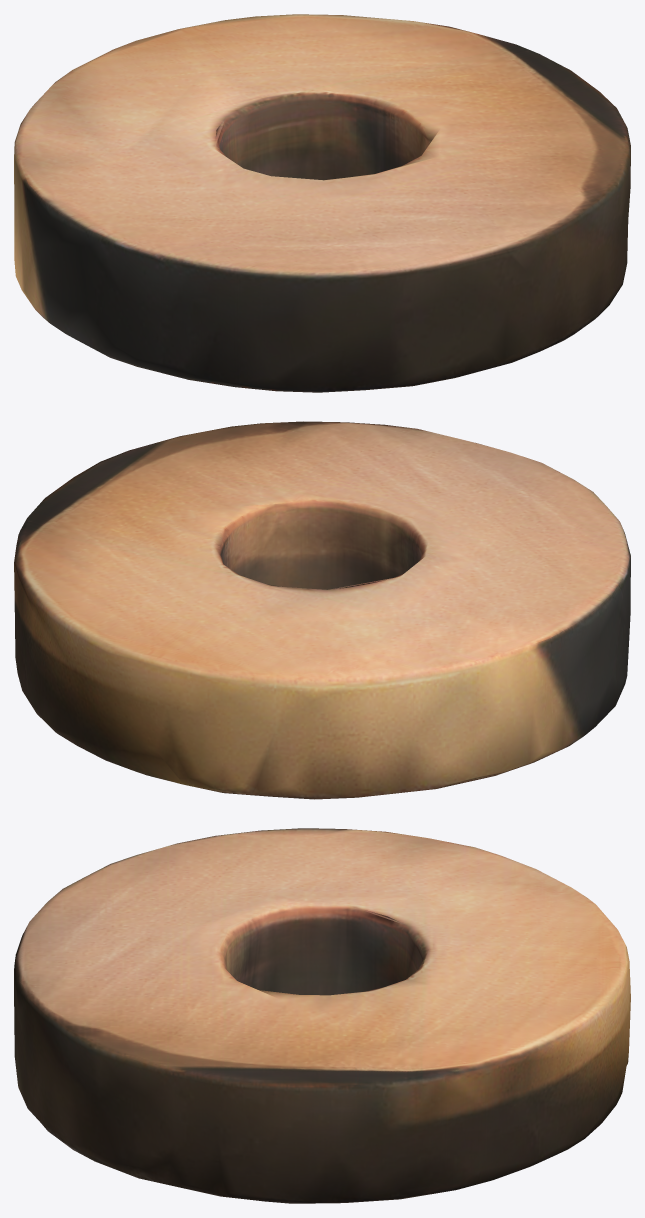
The model's file is coffeetable.obj.
3 views of the same model, one above another, from view 1: azimuth 30°, elevation 25°; view 2: azimuth 150°, elevation 25°; view 3: azimuth 270°, elevation 25° (orthographic).
Visible parts, largest first — view 1: geometry_0; view 2: geometry_0; view 3: geometry_0.
Part boxes in pixels (<box>): geometry_0: <box>14,14,630,392</box>; geometry_0: <box>14,421,630,799</box>; geometry_0: <box>14,828,630,1203</box>.
Size of the model in its own units: 1.94 by 0.4499 by 1.95.
Materials: 1 (1 with a texture image).
